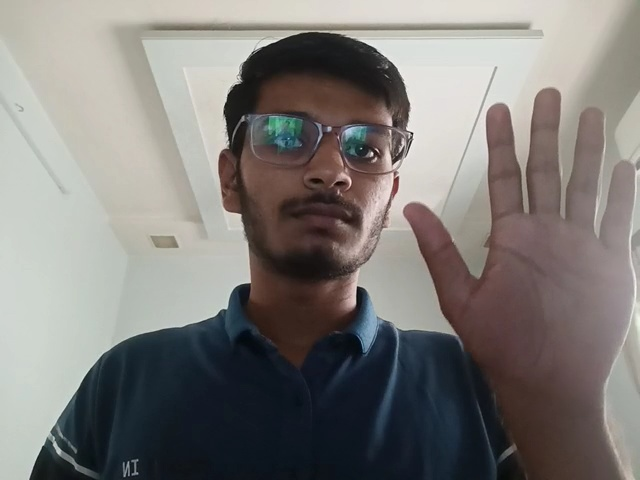Hello: (400, 83, 640, 415)
